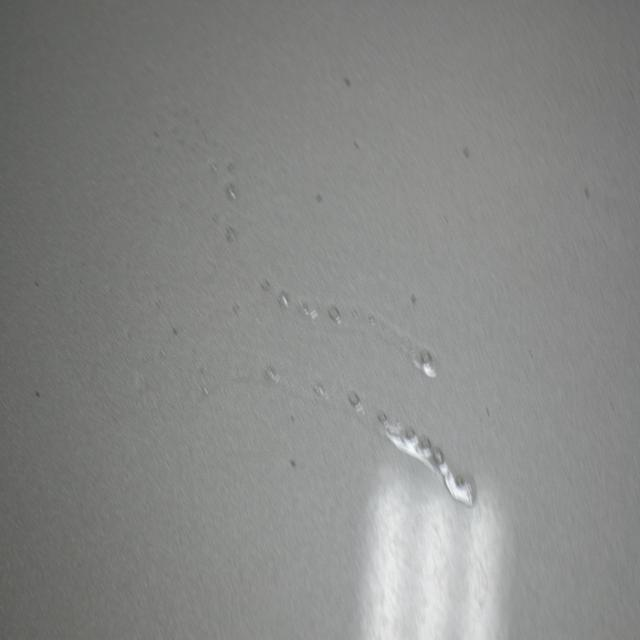dirt: (348, 130, 362, 158), (460, 138, 472, 164), (581, 182, 593, 208), (406, 290, 418, 310), (342, 70, 354, 90), (29, 278, 40, 297), (313, 191, 327, 205), (32, 380, 40, 402), (169, 322, 179, 338), (288, 457, 297, 468)
runs: (67, 97, 472, 505)
